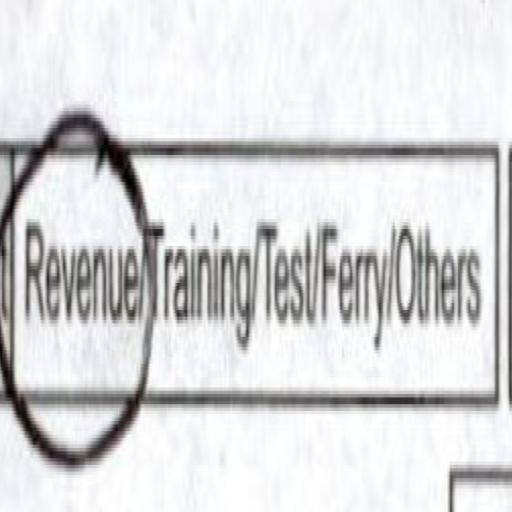check: (16, 62, 141, 490)
